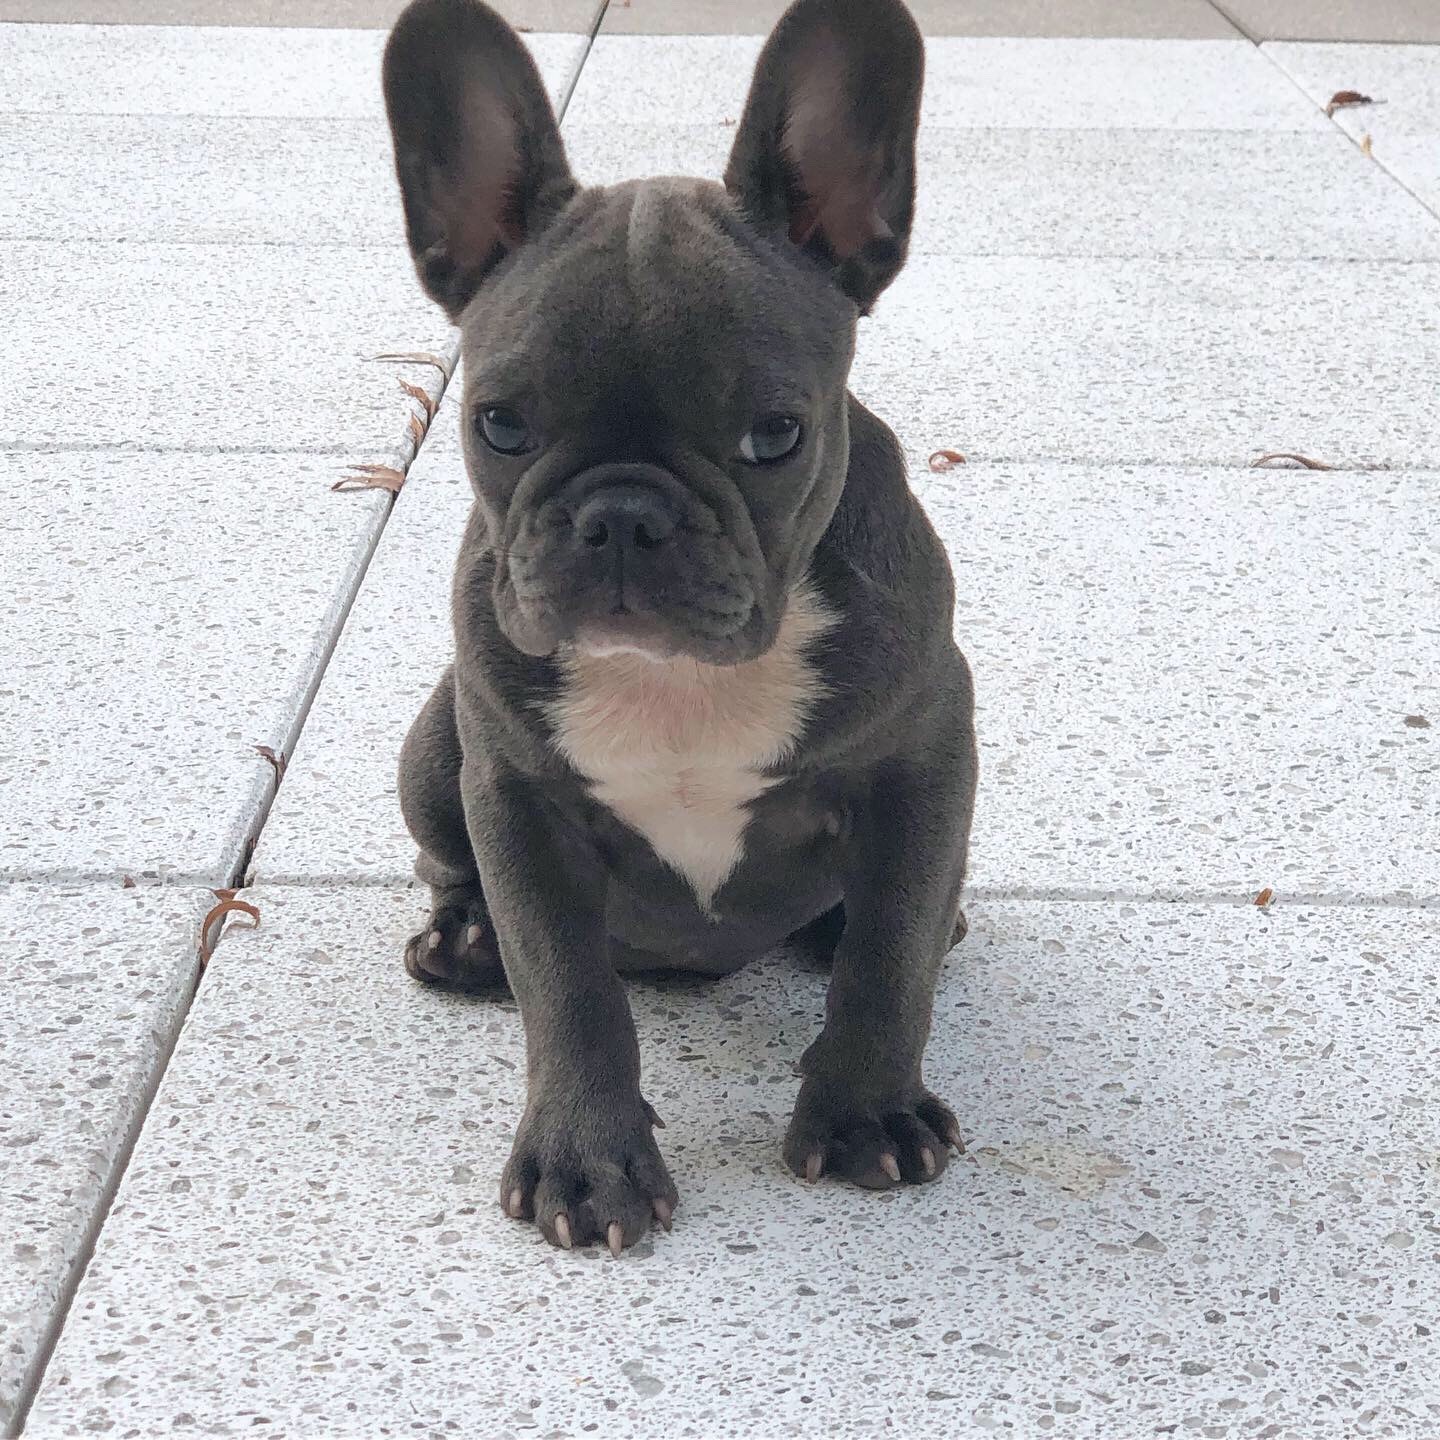lucy: (375, 1, 997, 1262)
